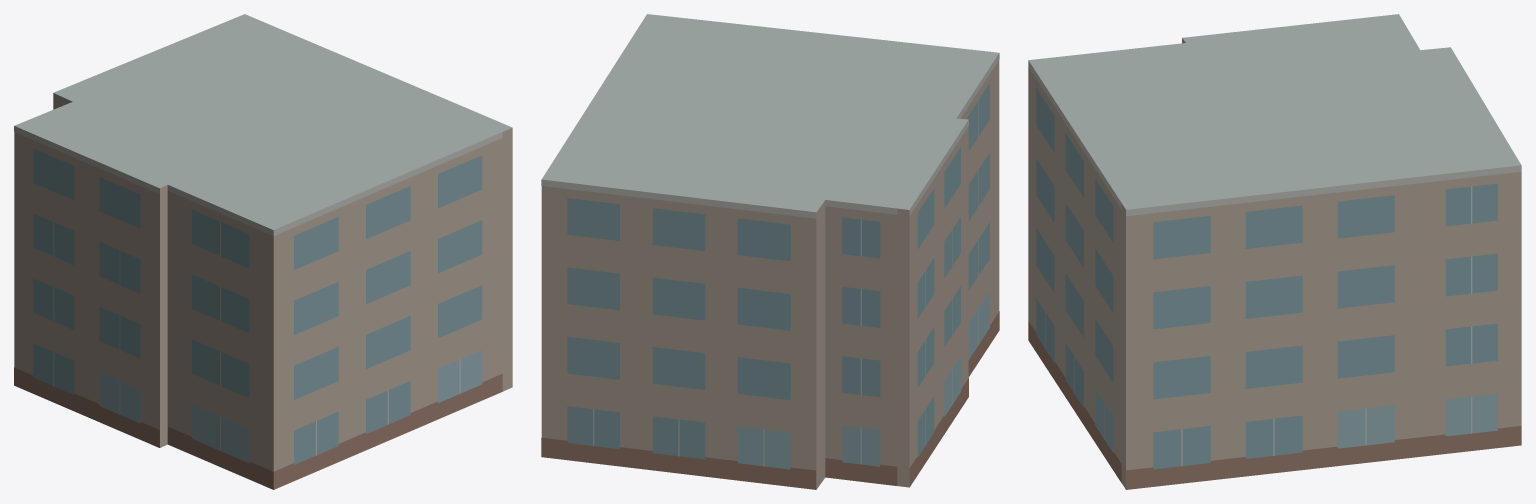
File: survey-upis-32649514.glb
The picture shows the model from 3 angles, left to right: view 1: azimuth 30°, elevation 25°; view 2: azimuth 150°, elevation 25°; view 3: azimuth 270°, elevation 25°; orthographic projection. The views are drawn at different scales.
Visible parts, largest first — view 1: survey-upis-32649514.tmp; view 2: survey-upis-32649514.tmp; view 3: survey-upis-32649514.tmp.
Boxes of the visible parts, x1,y1,x2,y2 form: survey-upis-32649514.tmp: (14,14,512,489); survey-upis-32649514.tmp: (541,14,999,489); survey-upis-32649514.tmp: (1028,14,1521,489).
Size of the model in its own units: 15.98 by 10.65 by 17.01.
